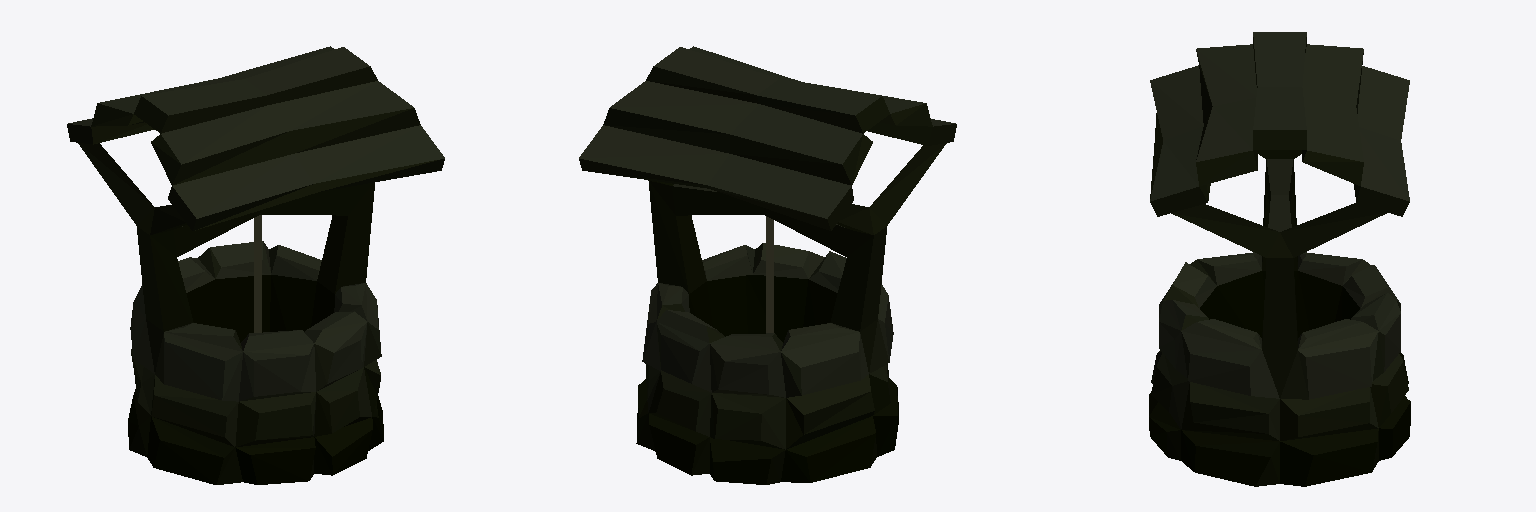
The model's file is well.obj.
3 views of the same model, side by side, from view 1: azimuth 30°, elevation 25°; view 2: azimuth 150°, elevation 25°; view 3: azimuth 270°, elevation 25° (orthographic).
Size of the model in its own units: 256 by 344 by 234.